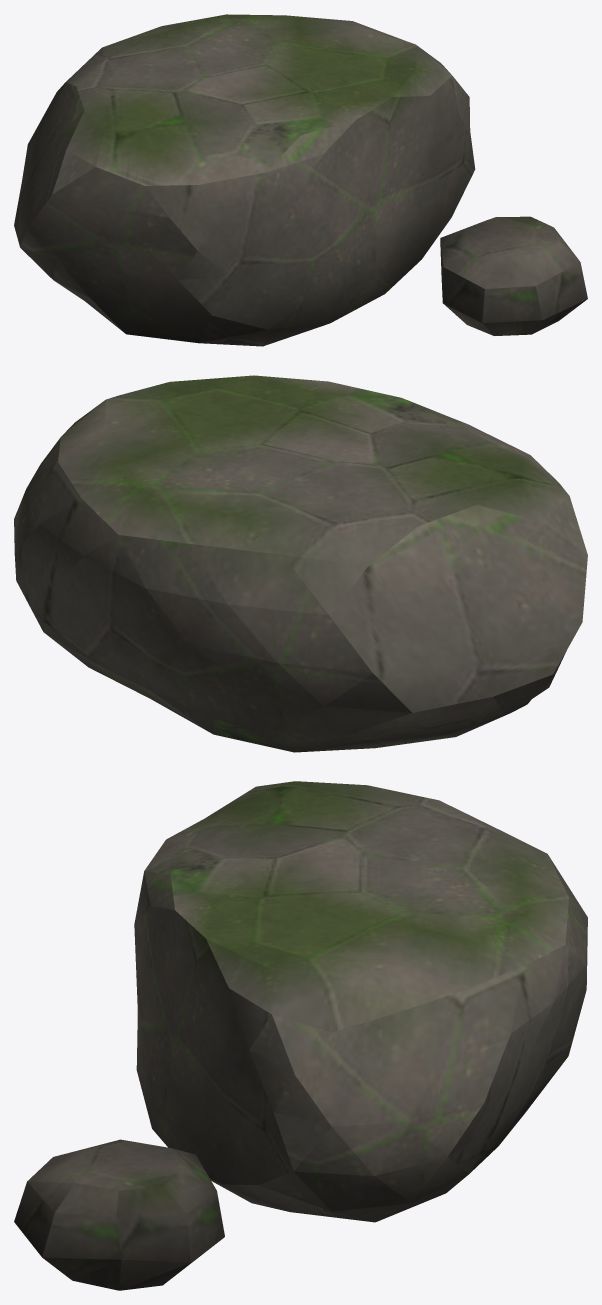
File: rock_boulder_large.glb
The picture shows the model from 3 angles, top to bottom: view 1: azimuth 30°, elevation 25°; view 2: azimuth 150°, elevation 25°; view 3: azimuth 270°, elevation 25°; orthographic projection. The views are drawn at different scales.
Parts seen in each view (by area): view 1: rock_boulder_large; view 2: rock_boulder_large; view 3: rock_boulder_large.
Boxes of the visible parts, <box> form: rock_boulder_large: <box>14,14,587,346</box>; rock_boulder_large: <box>14,375,587,752</box>; rock_boulder_large: <box>14,781,587,1290</box>.
Bounding box in the file's own units: 2.38 × 1.09 × 2.03.
1 material, 1 textured.
